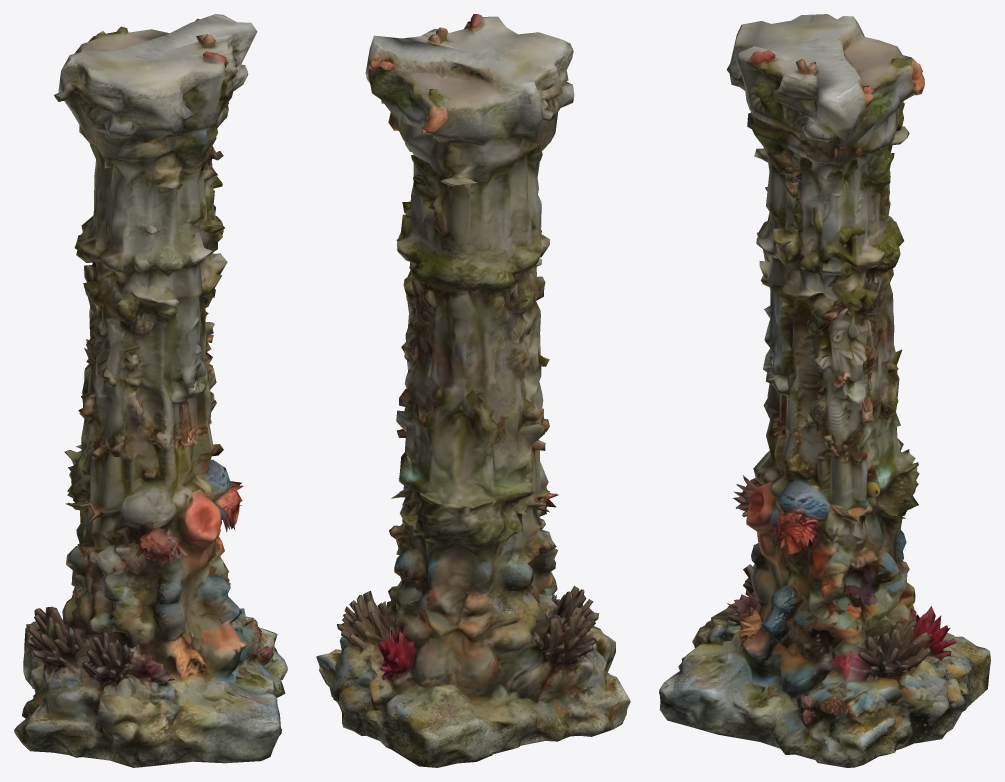
Rendered from saeule.glb.
3 renders of one model, left to right at view 1: azimuth 30°, elevation 25°; view 2: azimuth 150°, elevation 25°; view 3: azimuth 270°, elevation 25°, orthographic. The views are drawn at different scales.
Parts seen in each view (by area): view 1: tripo_node_0c75e4df-d846-4897-a671-5f851bee1404; view 2: tripo_node_0c75e4df-d846-4897-a671-5f851bee1404; view 3: tripo_node_0c75e4df-d846-4897-a671-5f851bee1404.
Part boxes in pixels (left/top/right/bottom): tripo_node_0c75e4df-d846-4897-a671-5f851bee1404: left=14, top=14, right=287, bottom=767; tripo_node_0c75e4df-d846-4897-a671-5f851bee1404: left=316, top=14, right=630, bottom=767; tripo_node_0c75e4df-d846-4897-a671-5f851bee1404: left=659, top=14, right=990, bottom=767.
Size of the model in its own units: 0.2672 by 0.6 by 0.2708.
1 material, 1 textured.
